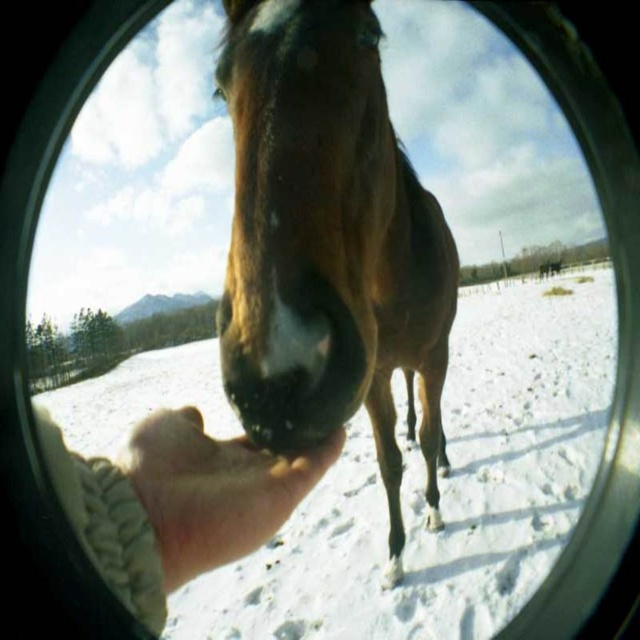Horse: (210, 2, 464, 591)
